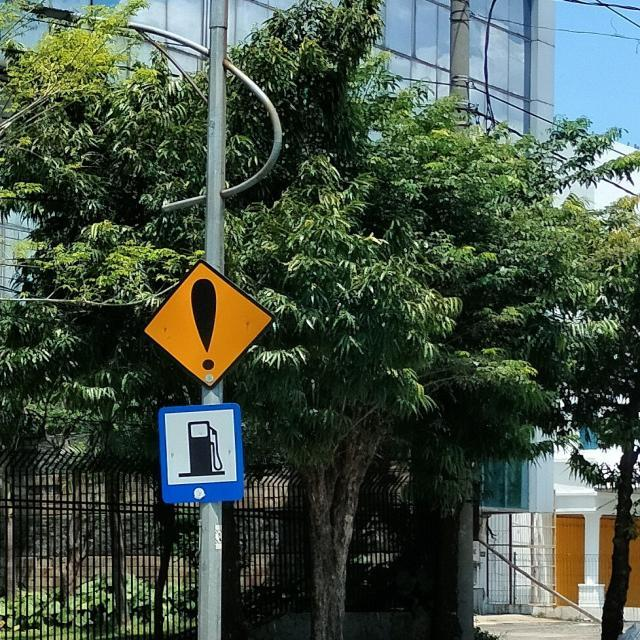Hati-Hati: (138, 258, 276, 394)
Pom Bensin: (156, 400, 250, 508)
